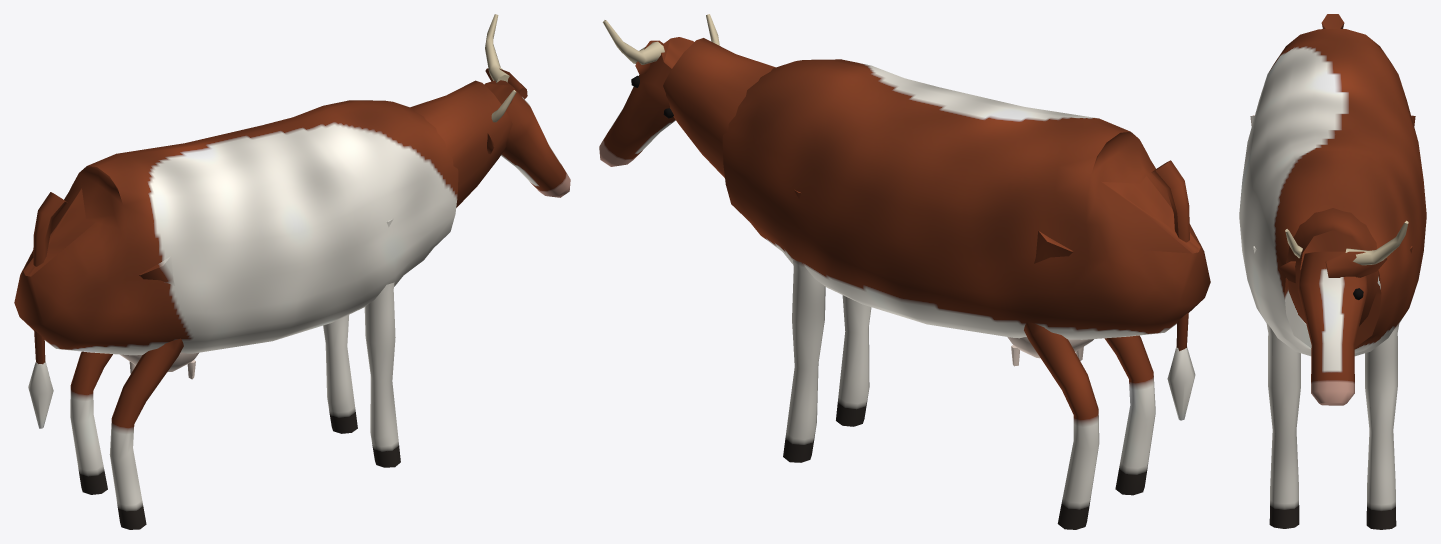
File: tpl_life_herd_1575_cattle_redpied_stand_h.glb
The picture shows the model from 3 angles, left to right: view 1: azimuth 30°, elevation 25°; view 2: azimuth 150°, elevation 25°; view 3: azimuth 270°, elevation 25°; orthographic projection. The views are drawn at different scales.
Parts seen in each view (by area): view 1: tpl_life_herd_1575_cattle_redpied_stand_h; view 2: tpl_life_herd_1575_cattle_redpied_stand_h; view 3: tpl_life_herd_1575_cattle_redpied_stand_h.
Boxes of the visible parts, left/top/right/bottom form: tpl_life_herd_1575_cattle_redpied_stand_h: left=14, top=14, right=570, bottom=529; tpl_life_herd_1575_cattle_redpied_stand_h: left=599, top=14, right=1210, bottom=529; tpl_life_herd_1575_cattle_redpied_stand_h: left=1239, top=14, right=1426, bottom=529.
Bounding box in the file's own units: 2.34 × 1.51 × 0.6588.
3 materials, 1 textured.
